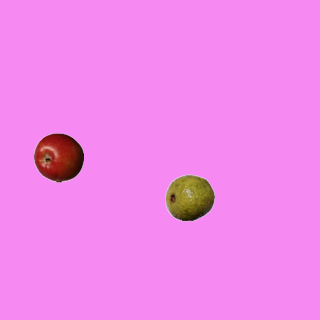Apple Braeburn: (33, 132, 83, 182)
Guava: (164, 172, 214, 222)
